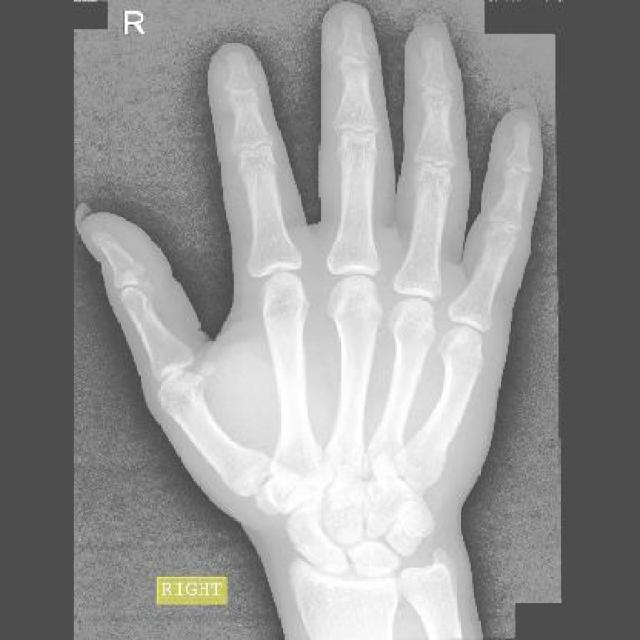Fracture: (326, 426, 371, 477)
